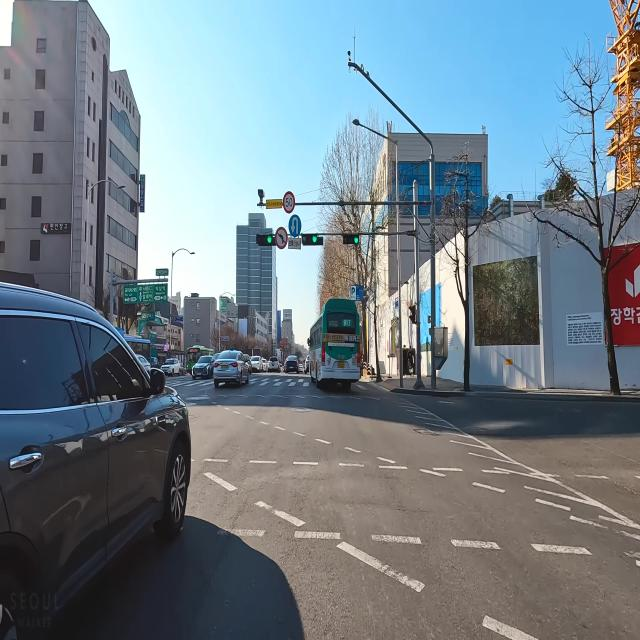Green Light: (267, 234, 272, 243), (312, 235, 318, 242), (354, 236, 359, 244)
